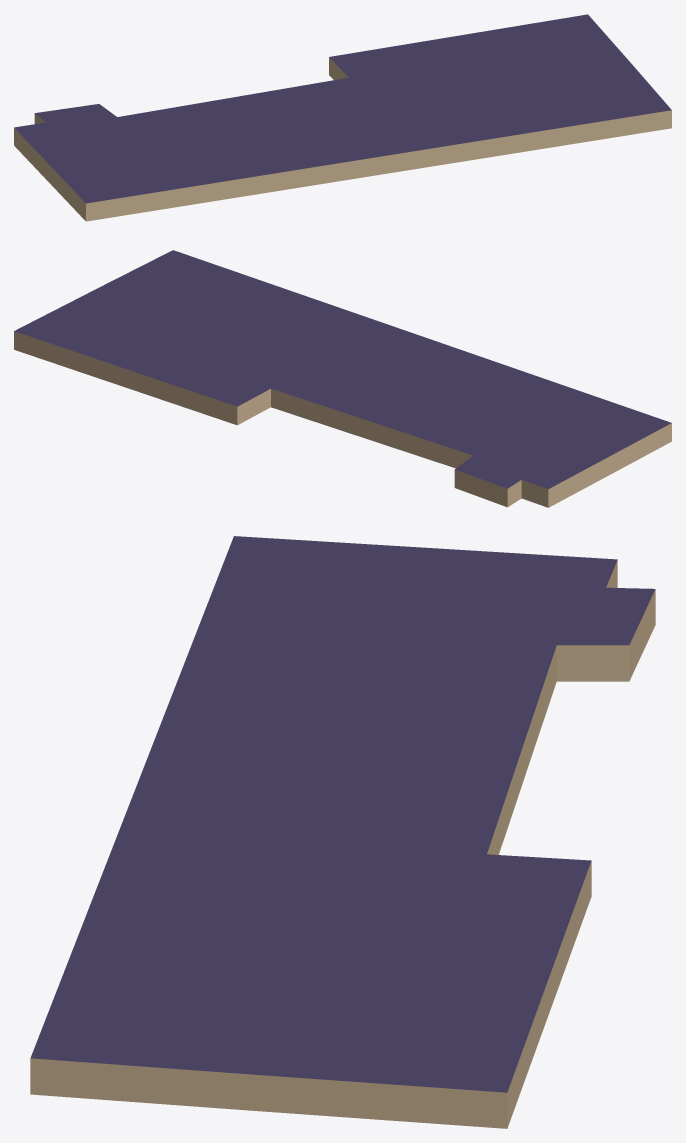
File: b-076-west-valley-building-day.glb
3 views of the same model, one above another, from view 1: azimuth 30°, elevation 25°; view 2: azimuth 150°, elevation 25°; view 3: azimuth 270°, elevation 25° (orthographic). The views are drawn at different scales.
Visible parts, largest first — view 1: campus/b-076-west-valley-building-day-0; view 2: campus/b-076-west-valley-building-day-0; view 3: campus/b-076-west-valley-building-day-0.
Part boxes in pixels (left/top/right/bottom): campus/b-076-west-valley-building-day-0: left=14, top=14, right=671, bottom=221; campus/b-076-west-valley-building-day-0: left=14, top=250, right=671, bottom=507; campus/b-076-west-valley-building-day-0: left=30, top=536, right=655, bottom=1128.
Bounding box in the file's own units: 98.9 × 3 × 46.94.
